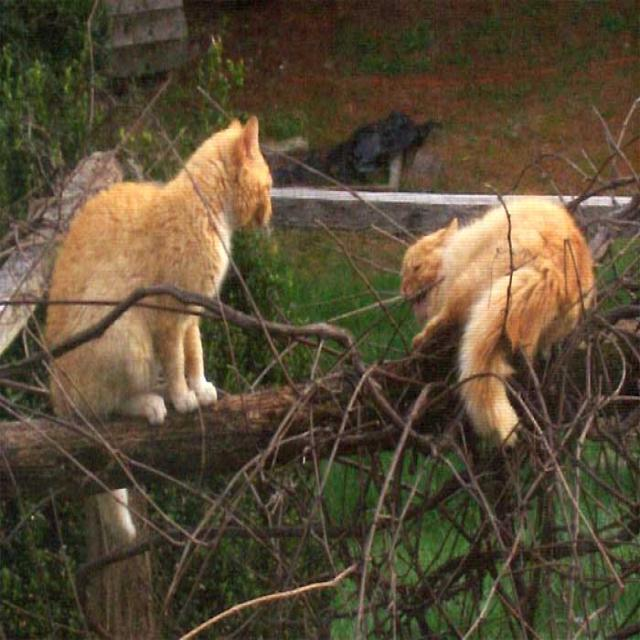cat: (46, 116, 271, 346), (401, 199, 594, 442), (51, 298, 218, 425), (96, 489, 136, 550)
